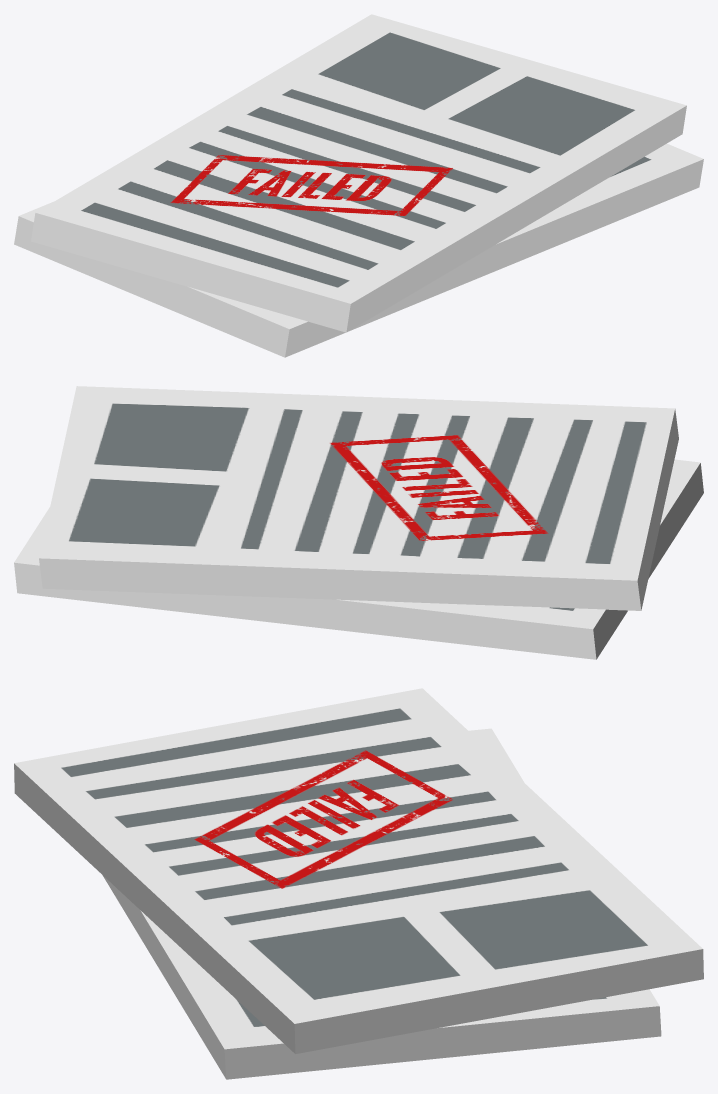
File: test paper failed.fbx
3 renders of one model, top to bottom at view 1: azimuth 30°, elevation 25°; view 2: azimuth 150°, elevation 25°; view 3: azimuth 270°, elevation 25°, orthographic. The views are drawn at different scales.
Parts seen in each view (by area): view 1: polySurface15; view 2: polySurface15; view 3: polySurface15.
Part boxes in pixels (x1,y1,x2,y2): polySurface15: (14,14,703,357); polySurface15: (14,386,703,659); polySurface15: (14,688,703,1079).
Bounding box in the file's own units: 6.5 × 0.6341 × 5.57.
Materials: 1 (1 with a texture image).
